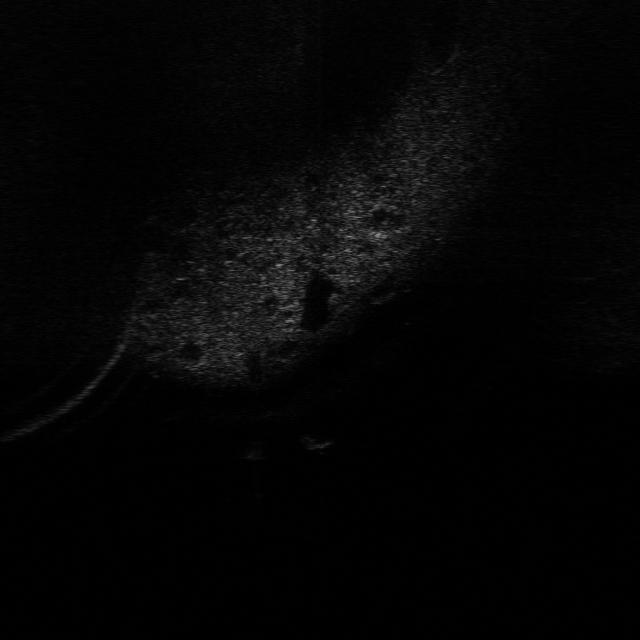cube: (297, 426, 338, 455)
cylinder: (241, 437, 268, 464)
